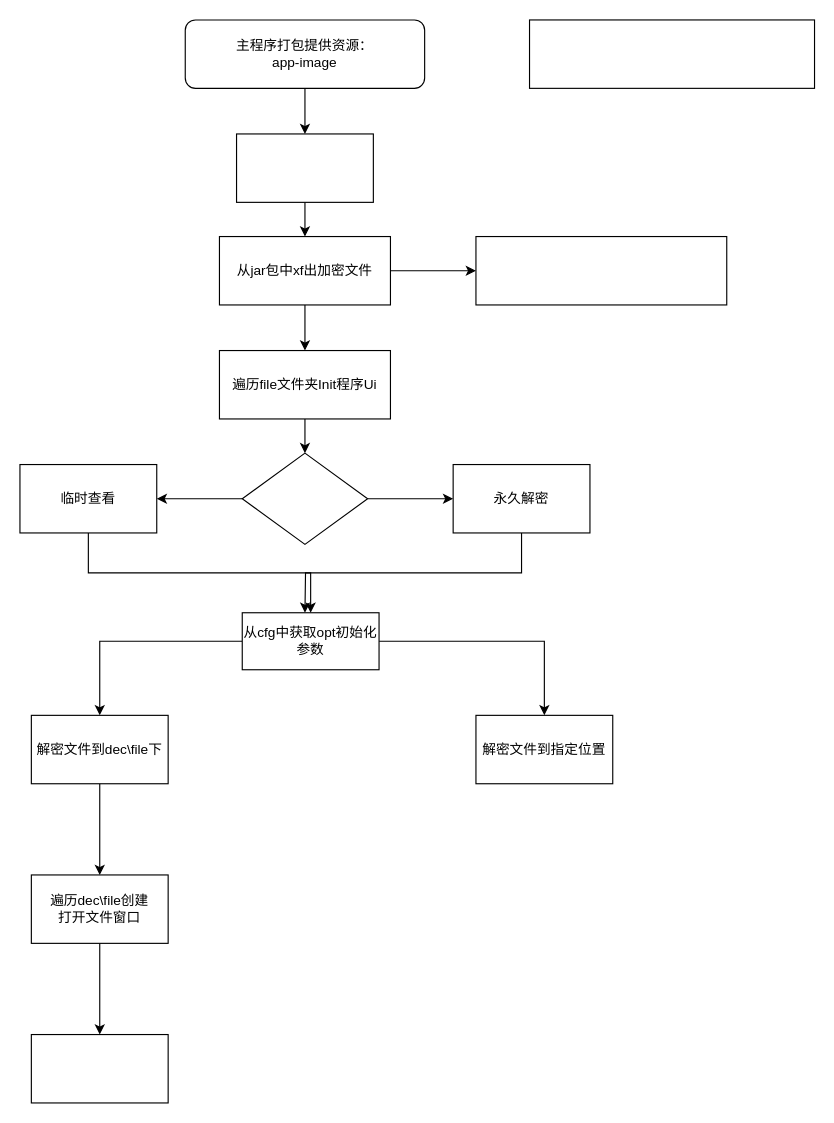
Image size: 834x1123. Some labels were removed from this diagram. The centre of each missing label's shape, as x and y in pixels:
temp C:\Users\NZPC\AppData\Local\Temp: (x=671, y=53)
关闭程序删除dec: (x=99, y=1068)
创建临时目录temp/sm4/dec: (x=304, y=167)
基于jar包相对位置 app-image/app/BOOT-INF/classes/file: (x=601, y=270)
选择操作: (x=304, y=498)
